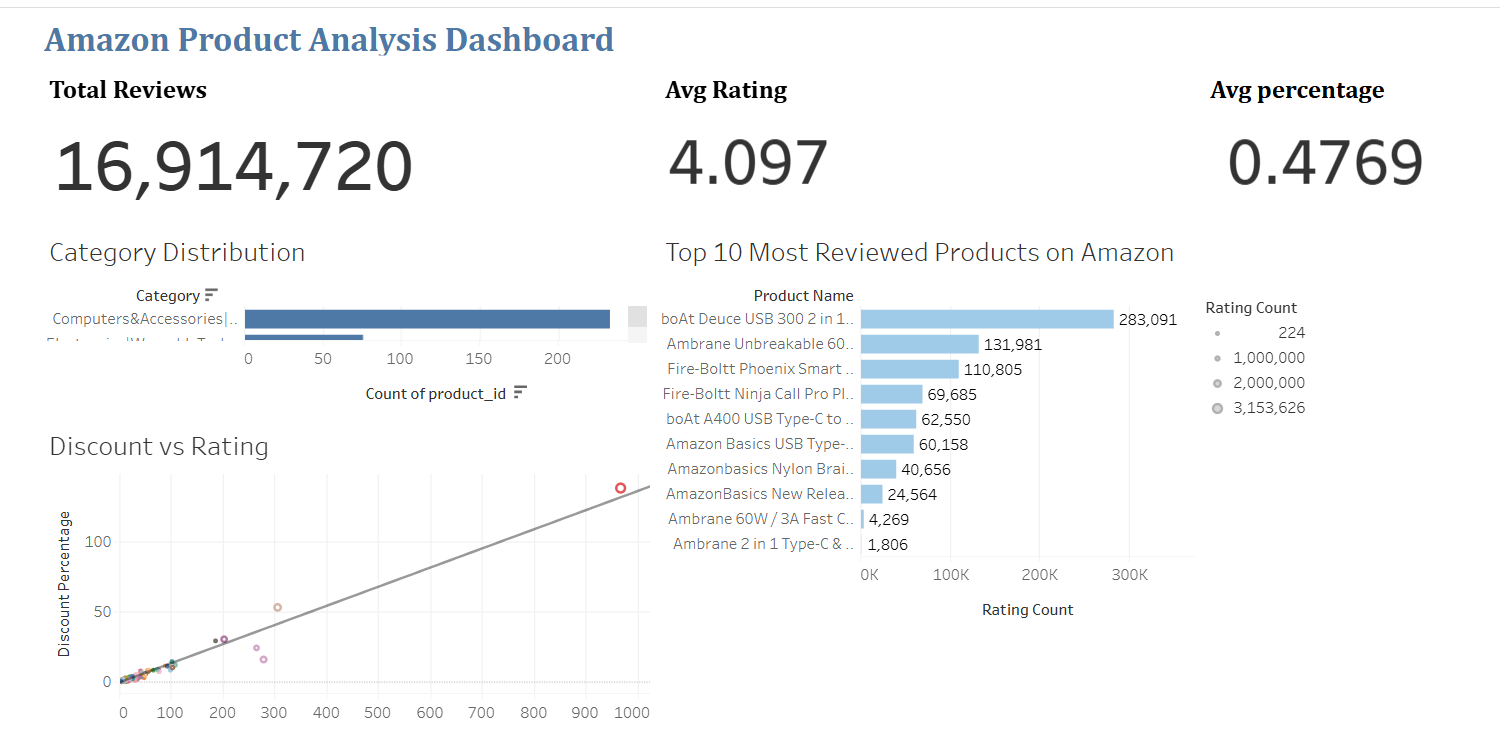

The dashboard page shown, as its layout file describes it:
{"tool":"tableau","page":{"name":"Amazon Product Analysis Dashboard","canvas":[1000,1000],"units":"permille","ordinal":0},"visuals":[{"type":"text","box":[6.7,10,986.7,56.2]},{"type":"worksheet","title":"Total Reviews","mark":"Automatic","box":[6.7,66.2,410.5,210]},{"type":"worksheet","title":" Avg Rating ","mark":"Automatic","box":[417.2,66.2,363.7,210]},{"type":"worksheet","title":" Avg percentage","mark":"Automatic","box":[780.8,66.2,212.5,231.2]},{"type":"worksheet","title":"Category Distribution","mark":"Automatic","rows":["category"],"cols":["product_id"],"box":[6.7,276.2,410.5,251.9]},{"type":"worksheet","title":"Top 10 Most Reviewed Products on Amazon","mark":"Automatic","rows":["product_name"],"cols":["rating_count"],"box":[417.2,276.2,363.7,713.8]},{"type":"legend","title":"Discount vs Rating","param":"[federated.054ssiy0woou5b13elso414bwg8n].[sum:rating_count:qk]","box":[780.8,297.5,212.5,142.5]},{"type":"worksheet","title":"Discount vs Rating","mark":"Automatic","rows":["discount_percentage"],"cols":["rating"],"box":[6.7,528.1,410.5,461.9]}]}

Visuals, with their boxes on the dashboard's canvas, which has no fixed pixel size, in thousandths of its width and height (x1, y1, x2, y2). These are canvas units, not pixel positions in the 1500x734 screenshot, which may show the page scaled, cropped or inside an application window:
text: 7/10/993/66
"Total Reviews" worksheet: 7/66/417/276
" Avg Rating " worksheet: 417/66/781/276
" Avg percentage" worksheet: 781/66/993/297
"Category Distribution" worksheet: 7/276/417/528
"Top 10 Most Reviewed Products on Amazon" worksheet: 417/276/781/990
"Discount vs Rating" legend: 781/298/993/440
"Discount vs Rating" worksheet: 7/528/417/990
